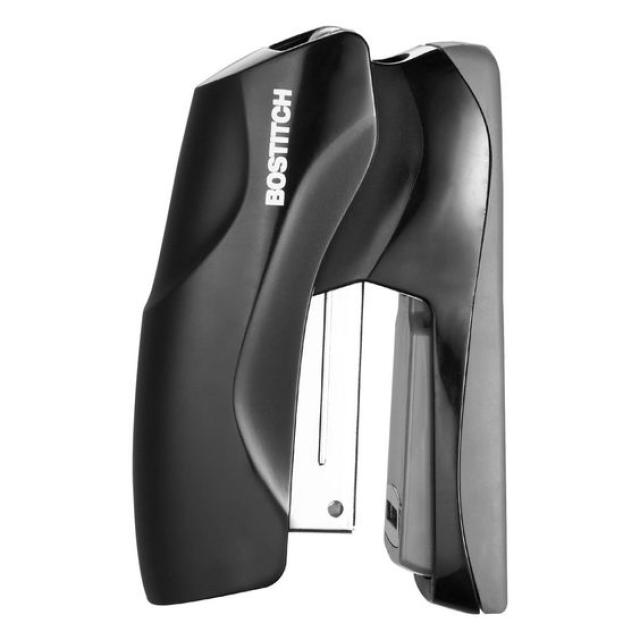Stapler: (118, 17, 534, 634)
